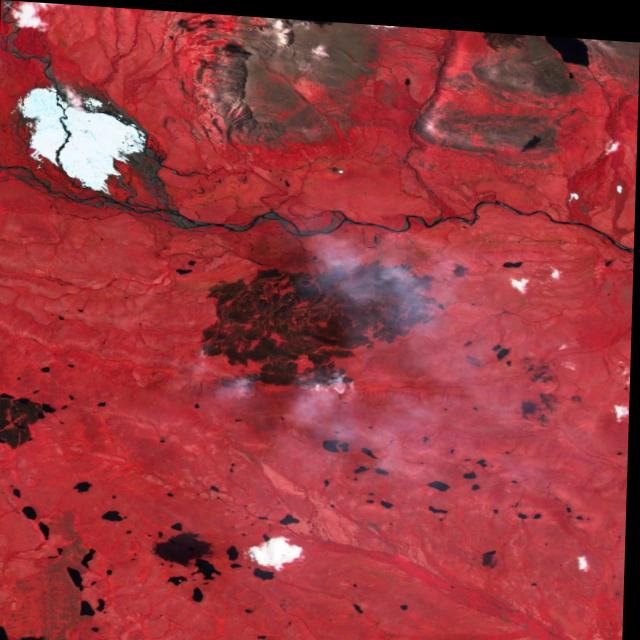fire: (177, 236, 444, 398)
